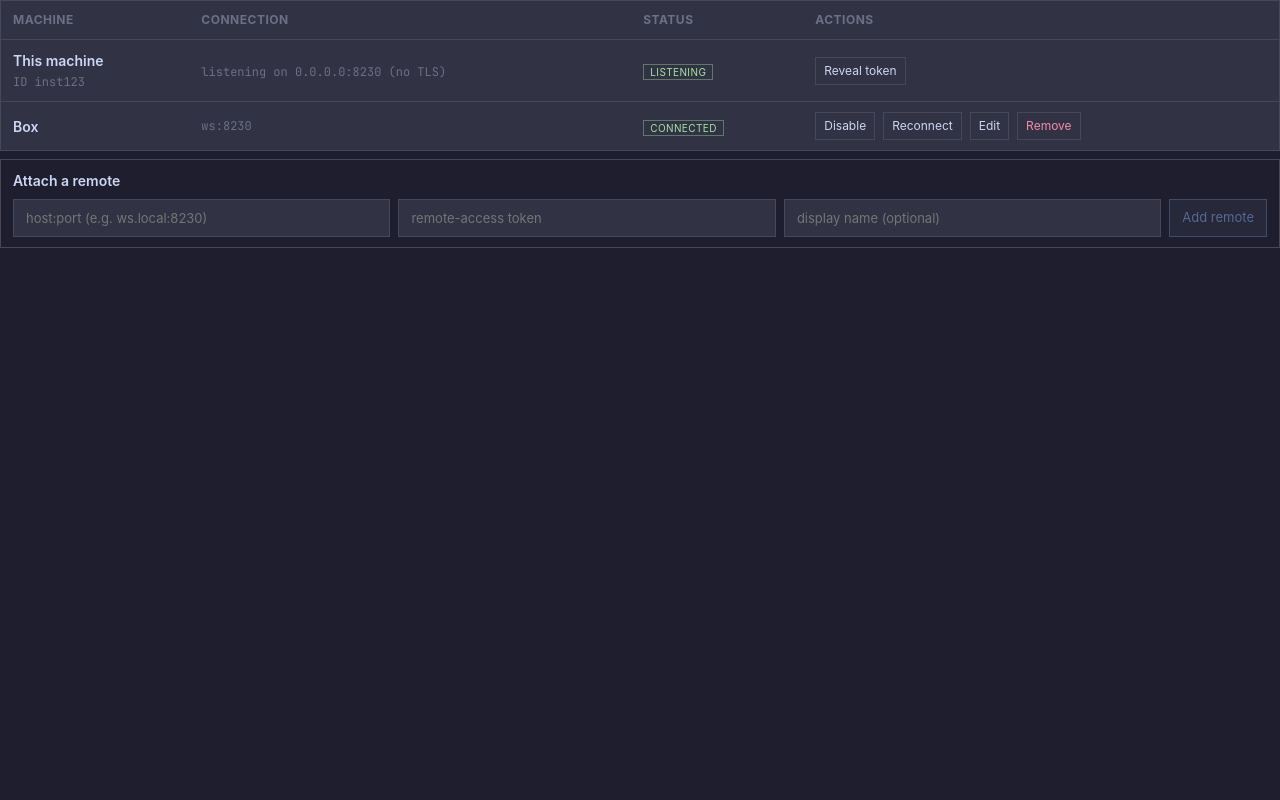
Scenario: RemoteSettings › uses shared action controls and fields throughout the add and edit forms
Expected: the text "Box" is shown, [13,118,38,134]
Step 1. Click the button "Edit" → (989, 126), box [970,112,1009,140]
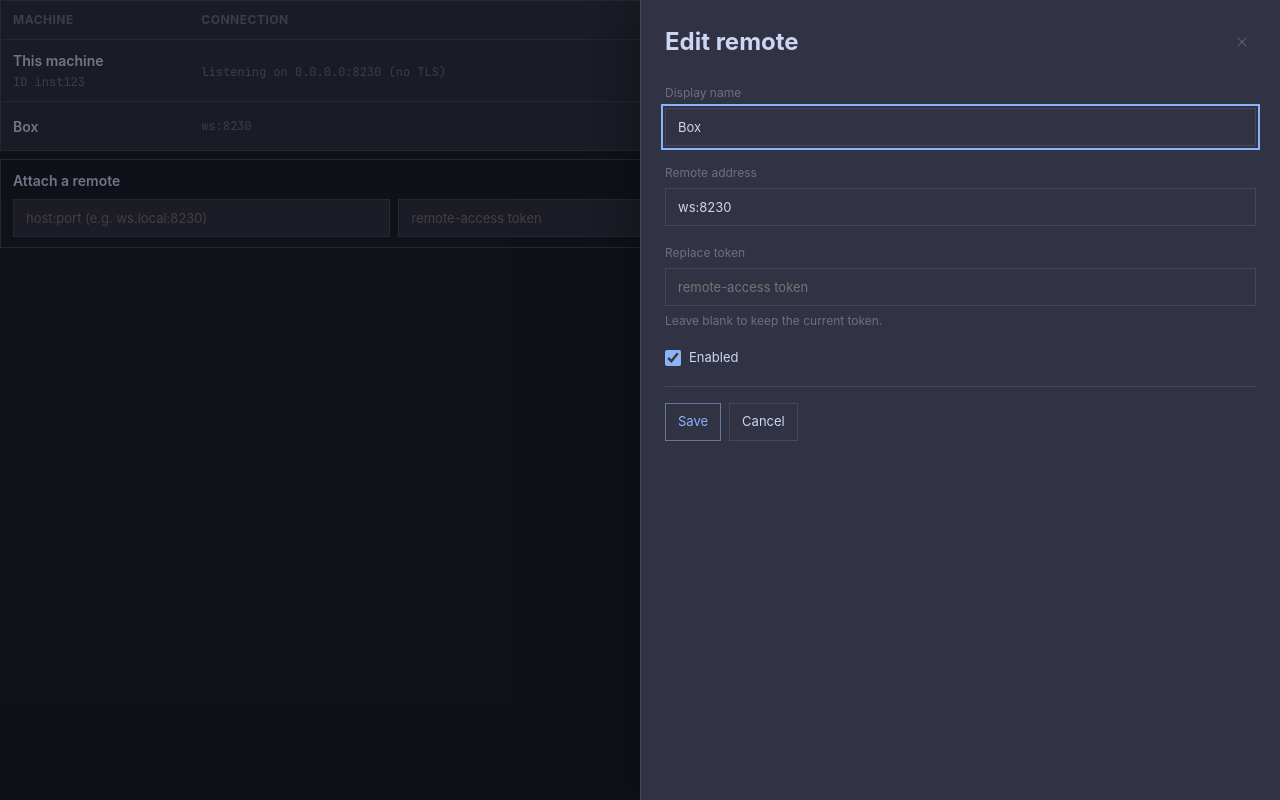
Expected: the checkbox labelled "Enabled" is checked, [665,350,681,366]
